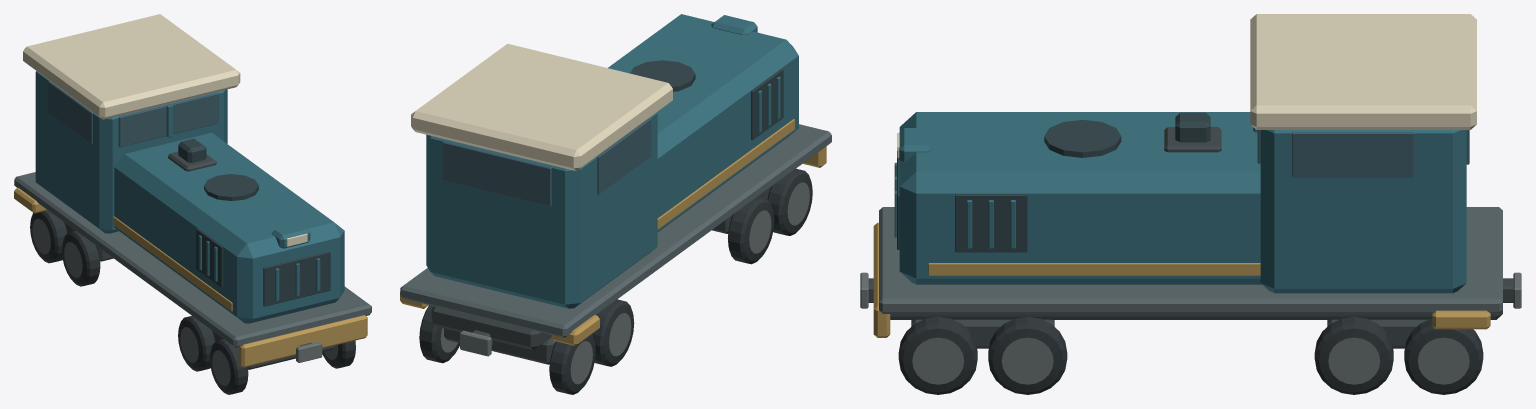
The model's file is locomotive.glb.
The picture shows the model from 3 angles, left to right: view 1: azimuth 30°, elevation 25°; view 2: azimuth 150°, elevation 25°; view 3: azimuth 270°, elevation 25°; orthographic projection. The views are drawn at different scales.
Parts seen in each view (by area): view 1: Train_Locomotive_Structure, Train_Locomotive_Wheel_2_1_R, Train_Locomotive_Wheel_1_1_R, Train_Locomotive_Wheel_1_2_R, Train_Locomotive_Wheel_2_2_R, Train_Locomotive_Wheel_1_1_L; view 2: Train_Locomotive_Structure, Train_Locomotive_Wheel_1_2_R, Train_Locomotive_Wheel_1_1_R, Train_Locomotive_Wheel_2_2_R, Train_Locomotive_Wheel_2_1_R, Train_Locomotive_Wheel_2_2_L; view 3: Train_Locomotive_Structure, Train_Locomotive_Wheel_1_2_L, Train_Locomotive_Wheel_2_1_L, Train_Locomotive_Wheel_1_1_L, Train_Locomotive_Wheel_2_2_L.
Part boxes in pixels (x1,y1,x2,y2): Train_Locomotive_Structure: (14, 14, 371, 369); Train_Locomotive_Wheel_2_1_R: (62, 230, 100, 286); Train_Locomotive_Wheel_1_1_R: (210, 339, 248, 394); Train_Locomotive_Wheel_1_2_R: (178, 316, 215, 371); Train_Locomotive_Wheel_2_2_R: (30, 210, 67, 263); Train_Locomotive_Wheel_1_1_L: (322, 340, 355, 368); Train_Locomotive_Structure: (400, 14, 831, 364); Train_Locomotive_Wheel_1_2_R: (728, 196, 774, 264); Train_Locomotive_Wheel_1_1_R: (767, 168, 812, 235); Train_Locomotive_Wheel_2_2_R: (549, 334, 595, 394); Train_Locomotive_Wheel_2_1_R: (592, 299, 634, 366); Train_Locomotive_Wheel_2_2_L: (419, 305, 459, 363); Train_Locomotive_Structure: (860, 14, 1521, 348); Train_Locomotive_Wheel_1_2_L: (988, 316, 1067, 394); Train_Locomotive_Wheel_2_1_L: (1314, 316, 1393, 394); Train_Locomotive_Wheel_1_1_L: (898, 316, 977, 394); Train_Locomotive_Wheel_2_2_L: (1404, 318, 1483, 394).
Size of the model in its own units: 2.3 by 3.13 by 6.36.
